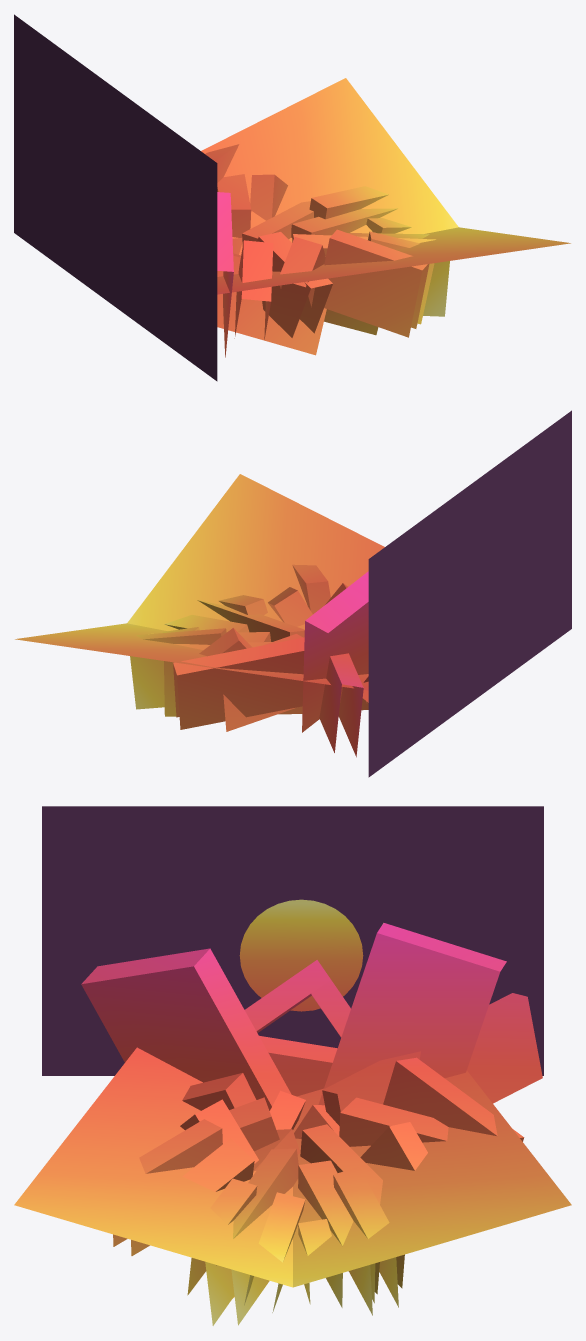
The model's file is lev_1.fbx.
3 renders of one model, top to bottom at view 1: azimuth 30°, elevation 25°; view 2: azimuth 150°, elevation 25°; view 3: azimuth 270°, elevation 25°, orthographic. The views are drawn at different scales.
Visible parts, largest first — view 1: lev_gra_2; view 2: lev_gra_2; view 3: lev_gra_2.
Boxes of the visible parts, left/top/right/bottom form: lev_gra_2: left=14, top=14, right=570, bottom=381; lev_gra_2: left=15, top=410, right=571, bottom=777; lev_gra_2: left=14, top=806, right=571, bottom=1325.
Bounding box in the file's own units: 35409 × 28165 × 40382.
